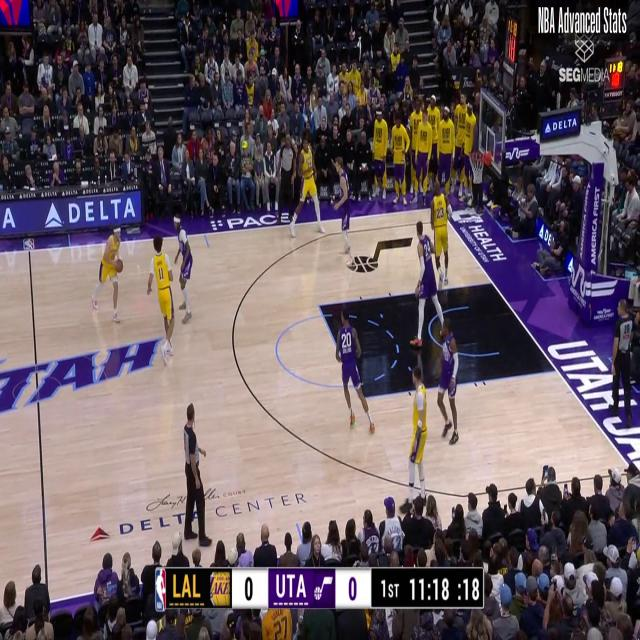ball: (115, 258, 123, 272)
judge: (180, 403, 214, 550), (608, 298, 634, 423)
player: (336, 308, 376, 434), (412, 223, 446, 349), (399, 362, 427, 514), (148, 235, 175, 361), (292, 139, 324, 244), (332, 155, 358, 270), (92, 225, 122, 322), (171, 213, 196, 329), (438, 319, 460, 444), (430, 174, 452, 290)
